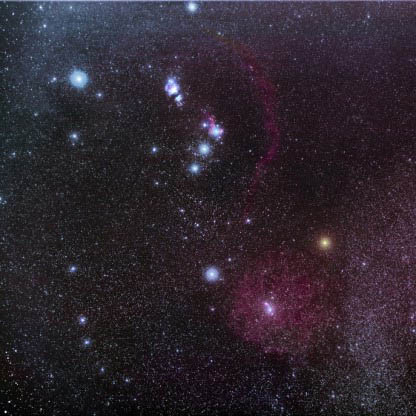Orion: (188, 262, 228, 294), (61, 56, 86, 94), (308, 230, 340, 256), (175, 1, 206, 20), (210, 117, 234, 141), (191, 138, 214, 163), (185, 158, 201, 181)
